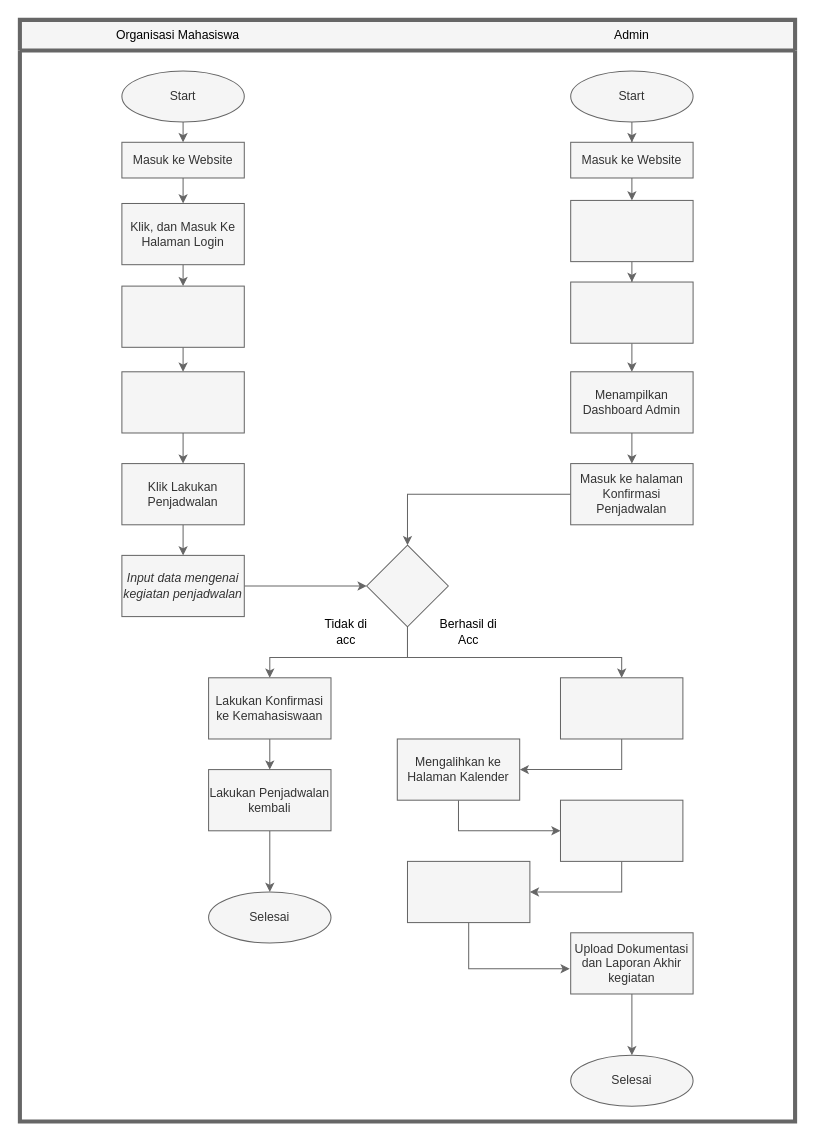
The diagram is 814 pixels wide and 1140 high, and some of its shapes have lost their labels. Here are the shapes that lost their labels. From the top down, the box of each, then its label:
(570, 199, 693, 262): Masuk ke Halaman Login
(121, 285, 244, 347): Input Data Akun Login Ormawa
(570, 281, 693, 343): Input Data Akun Login Admin
(121, 371, 244, 433): Menampilkan Dashboard Ormawa
(366, 544, 448, 627): Acc Kegiatan
(559, 677, 683, 739): Menampilkan penjadwalan berhasil dilakukan
(559, 799, 683, 861): Menampilkan tanggal di Kalender dengan data hasil penjadwalan
(406, 860, 530, 923): Pilih tanggal yang sudah dibooking penjadwalan kegiatan
